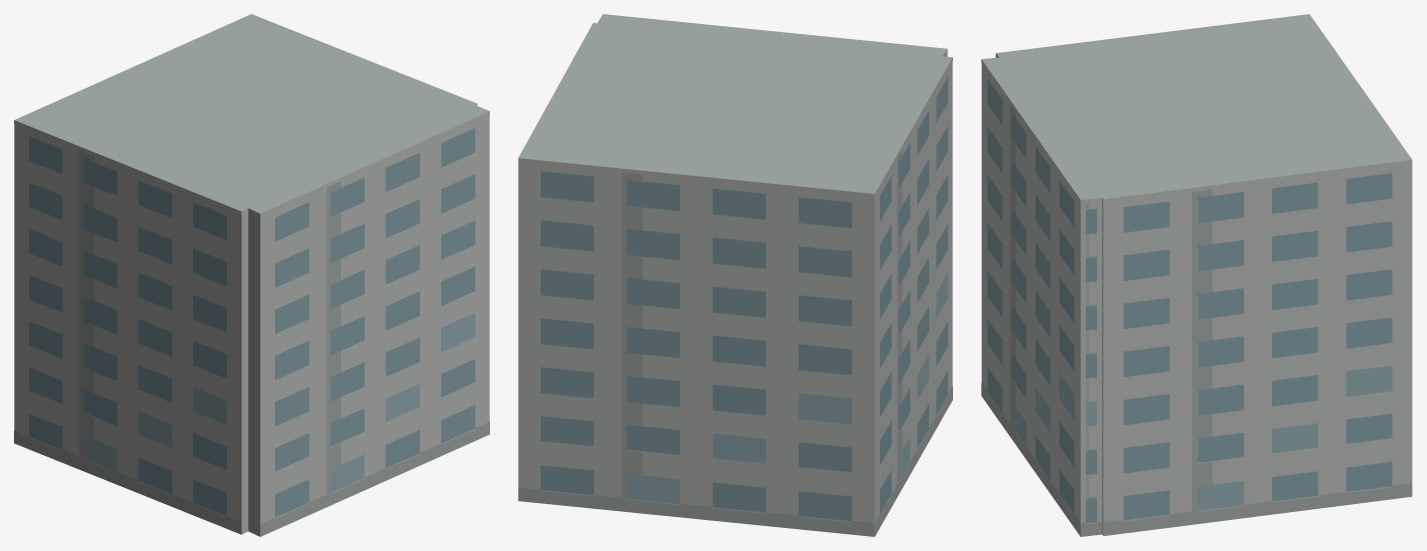
The model's file is survey-upis-32833488.glb.
3 views of the same model, side by side, from view 1: azimuth 30°, elevation 25°; view 2: azimuth 150°, elevation 25°; view 3: azimuth 270°, elevation 25° (orthographic). The views are drawn at different scales.
Parts seen in each view (by area): view 1: survey-upis-32833488.tmp; view 2: survey-upis-32833488.tmp; view 3: survey-upis-32833488.tmp.
Boxes of the visible parts, <box> form: survey-upis-32833488.tmp: <box>14,14,489,536</box>; survey-upis-32833488.tmp: <box>518,14,952,536</box>; survey-upis-32833488.tmp: <box>981,14,1412,536</box>.
Bounding box in the file's own units: 24.41 × 20.6 × 23.89.
